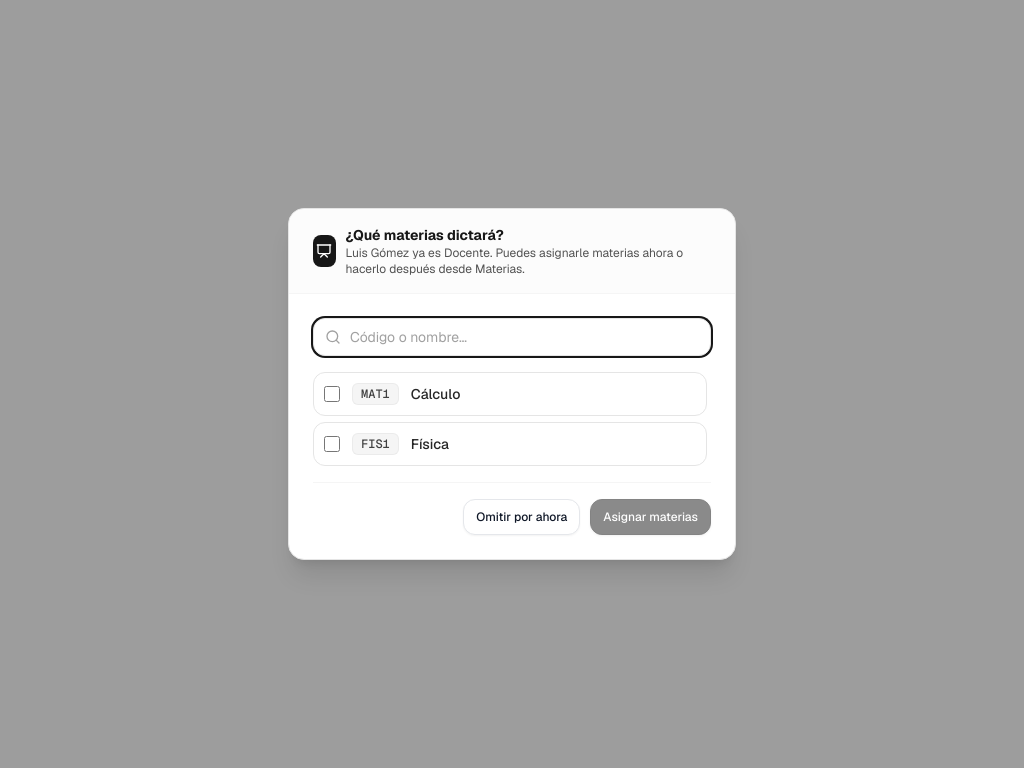
Test: AssignSubjectsDialog › shows per-subject failures and stays open
Expected: the text "Cálculo" is shown, [411,384,460,404]
Click the checkbox labelled "MAT1 Cálculo". click: (332, 394)
box: [324,386,340,402]
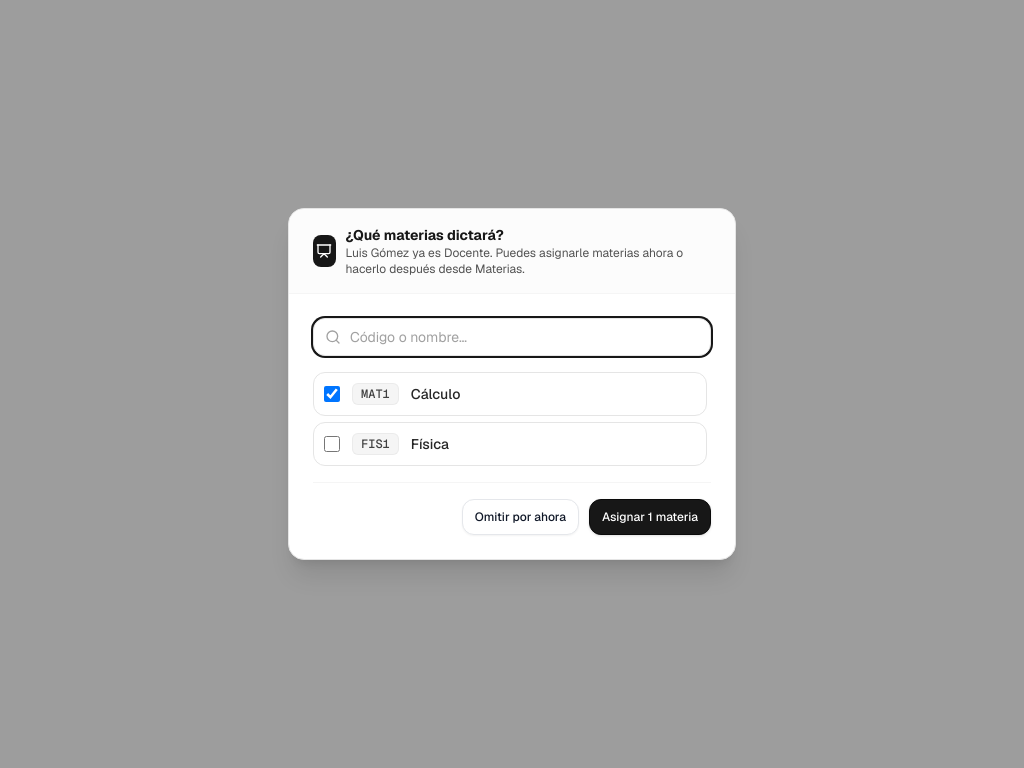
Click the button "Asignar 1 materia". click: (650, 517)
box: [589,499,711,535]
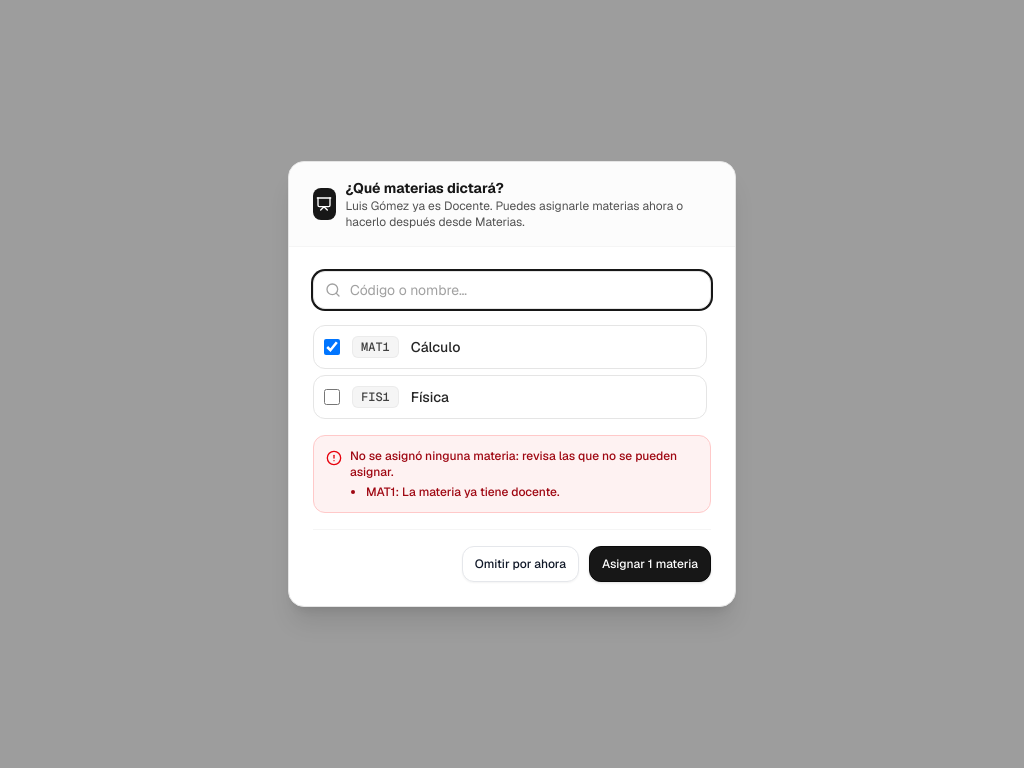
Now the list item "MAT1: La materia ya tiene docente." is shown, box [366,484,560,500]
